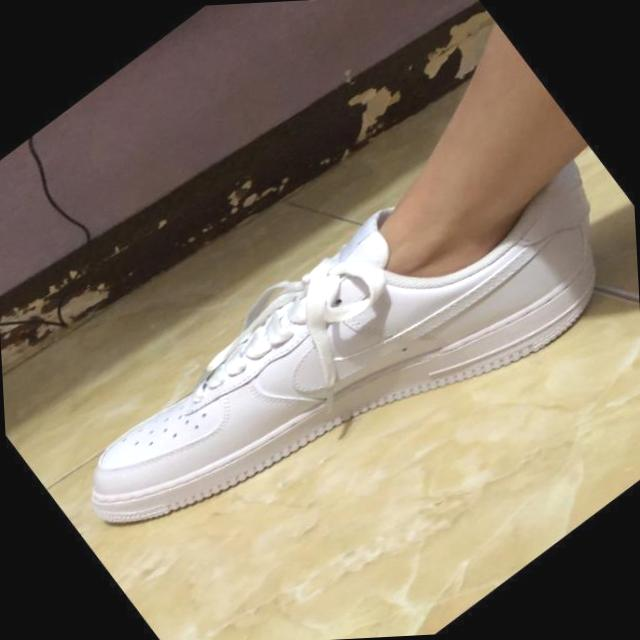nike_original_airforce: (25, 89, 640, 636)
